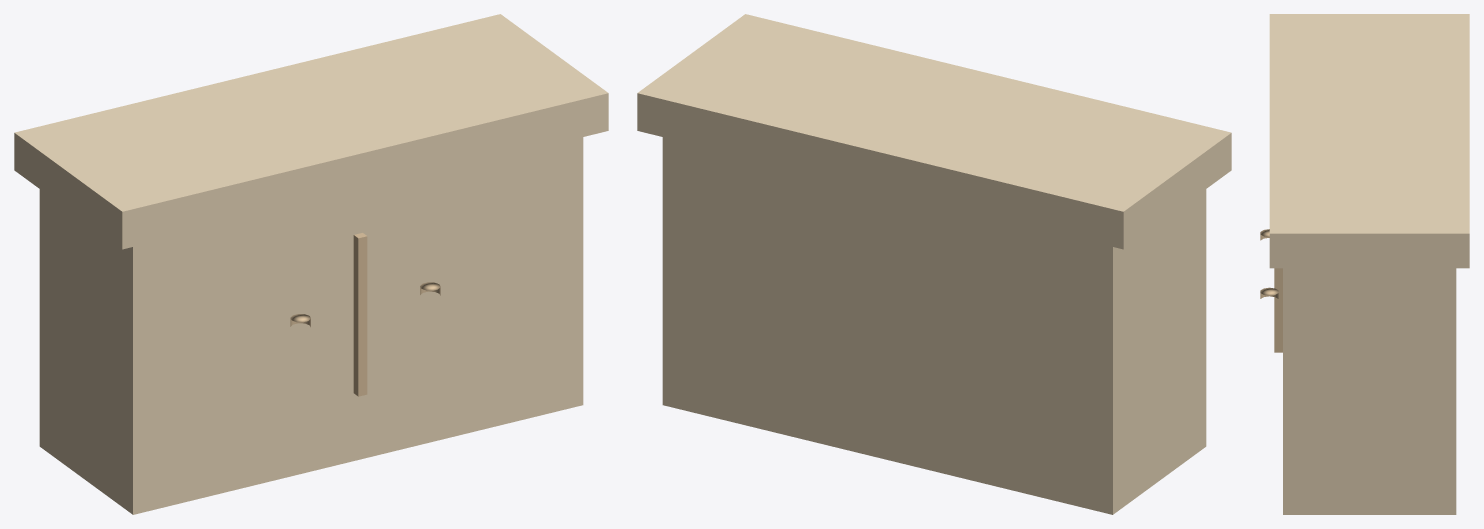
Rendered from sideboard.glb.
3 views of the same model, side by side, from view 1: azimuth 30°, elevation 25°; view 2: azimuth 150°, elevation 25°; view 3: azimuth 270°, elevation 25° (orthographic). The views are drawn at different scales.
Visible parts, largest first — view 1: sideboard; view 2: sideboard; view 3: sideboard.
Boxes of the visible parts, <box> form: sideboard: <box>14,14,608,514</box>; sideboard: <box>637,14,1231,514</box>; sideboard: <box>1260,14,1469,514</box>.
Size of the model in its own units: 1.35 by 0.83 by 0.5438.
